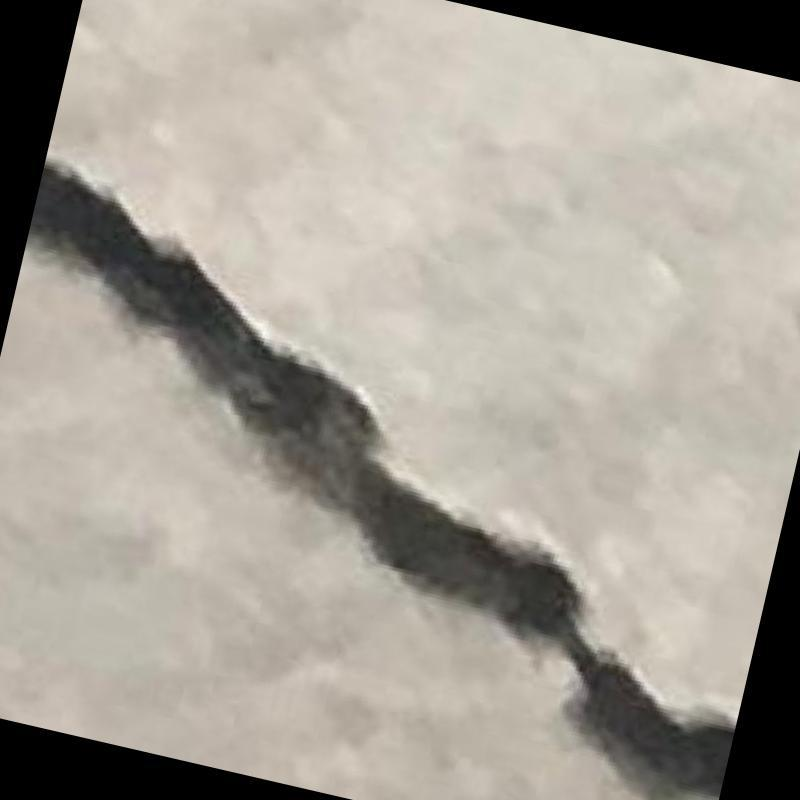pothole: (28, 159, 735, 798)
